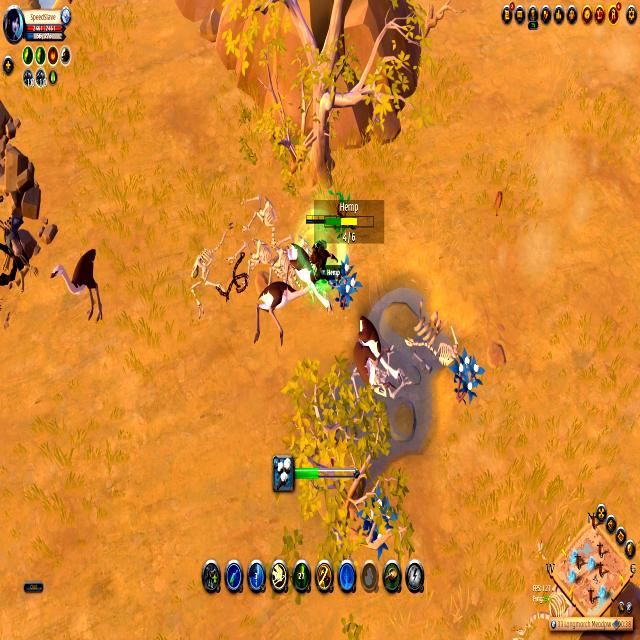hide: (450, 346, 482, 404), (334, 258, 358, 310)
mob: (253, 254, 310, 346), (352, 308, 404, 404), (269, 240, 315, 297)
ore: (52, 237, 106, 328)
red: (306, 212, 336, 284)
